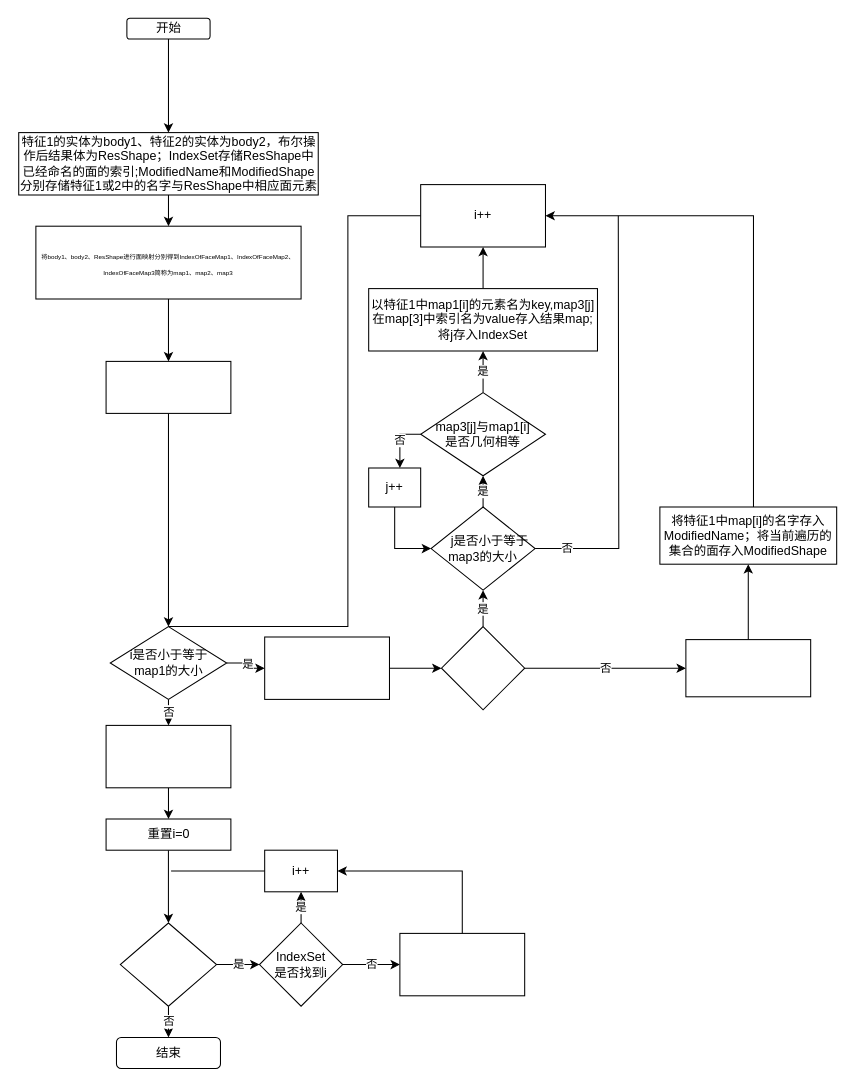
This 855x1087 diagram has some shape labels left out. Here are the shapes that lost their labels. From the top down, the centre of each, then its label:
(x=168, y=386): 初始化i、j都等于0
(x=326, y=667): 根据Modified函数获取当前面map1[i]经布尔操作后的修改面集合
(x=482, y=668): 集合是否为空
(x=748, y=668): 遍历集合中的元素
(x=168, y=756): 对map2的遍历操作与map1大致相同此处省略
(x=168, y=964): i<= map3.Size()
(x=462, y=964): 遍历ModifiedShape，将其中与map[3]相等的面的名字组合一起作为map3[i]的名字
